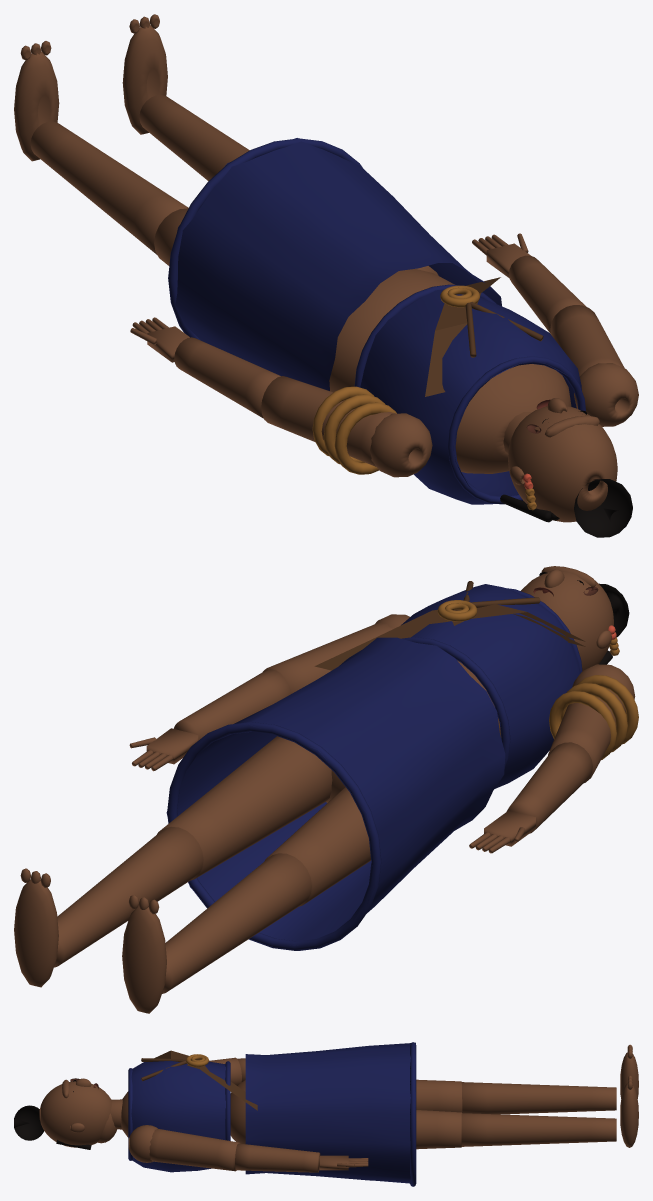
Rendered from ADANNA_AD03_V3.obj.
3 renders of one model, top to bottom at view 1: azimuth 30°, elevation 25°; view 2: azimuth 150°, elevation 25°; view 3: azimuth 270°, elevation 25°, orthographic. The views are drawn at different scales.
Visible parts, largest first — view 1: skirt_wrap_indigo, wrap_top_indigo, shin_foot.L, head, shin_foot.R, upperarm.L, neck_torso_upper, upperarm.R, forearm_hand.L, pelvis_lower, forearm_hand.R, hair_knot (+5 smaller); view 2: skirt_wrap_indigo, wrap_top_indigo, shin_foot.L, shin_foot.R, thigh.R, thigh.L, forearm_hand.L, forearm_hand.R, head, upperarm.L, upperarm.R, baldric_L_to_R (+5 smaller); view 3: skirt_wrap_indigo, wrap_top_indigo, shin_foot.R, shin_foot.L, head, upperarm.R, forearm_hand.R, thigh.R, thigh.L, hair_knot, pelvis_lower, baldric_L_to_R (+4 smaller).
Boxes of the visible parts, x1,y1,x2,y2 form: skirt_wrap_indigo: [168, 138, 501, 390]; wrap_top_indigo: [354, 284, 585, 504]; shin_foot.L: [14, 41, 188, 254]; head: [503, 406, 617, 522]; shin_foot.R: [122, 14, 249, 180]; upperarm.L: [261, 376, 432, 477]; neck_torso_upper: [455, 364, 571, 473]; upperarm.R: [550, 305, 638, 426]; forearm_hand.L: [130, 317, 280, 418]; pelvis_lower: [329, 269, 454, 392]; forearm_hand.R: [472, 233, 586, 333]; hair_knot: [574, 479, 632, 537]; skirt_wrap_indigo: [166, 637, 505, 950]; wrap_top_indigo: [401, 584, 582, 788]; shin_foot.L: [122, 853, 311, 1013]; shin_foot.R: [14, 827, 203, 987]; thigh.R: [157, 736, 332, 880]; thigh.L: [264, 787, 370, 906]; forearm_hand.L: [469, 742, 592, 853]; forearm_hand.R: [129, 669, 290, 771]; head: [521, 571, 613, 670]; upperarm.L: [548, 664, 635, 782]; upperarm.R: [263, 614, 409, 693]; baldric_L_to_R: [314, 604, 585, 670]; skirt_wrap_indigo: [245, 1042, 416, 1186]; wrap_top_indigo: [128, 1060, 230, 1172]; shin_foot.R: [461, 1075, 638, 1147]; shin_foot.L: [461, 1044, 638, 1114]; head: [39, 1081, 122, 1147]; upperarm.R: [128, 1125, 240, 1171]; forearm_hand.R: [235, 1143, 368, 1172]; thigh.R: [416, 1110, 461, 1149]; thigh.L: [416, 1079, 462, 1112]; hair_knot: [14, 1105, 43, 1140]; pelvis_lower: [230, 1080, 245, 1144]; baldric_L_to_R: [154, 1050, 257, 1110].
Bounding box in the file's own units: 0.7784 × 0.426 × 1.84.
